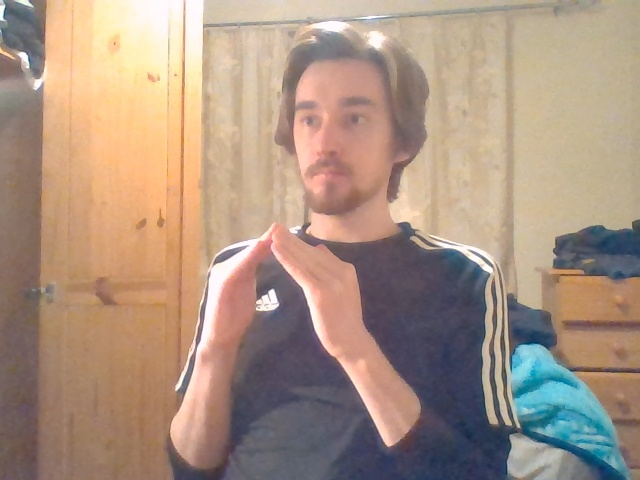home: (208, 223, 357, 302)
